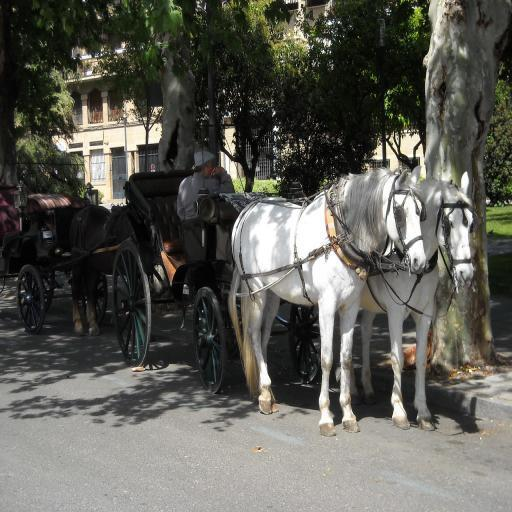horse: (225, 164, 421, 439), (312, 170, 474, 431)
